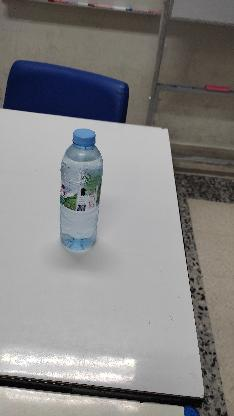Plastic Bottle: (56, 126, 104, 256)
